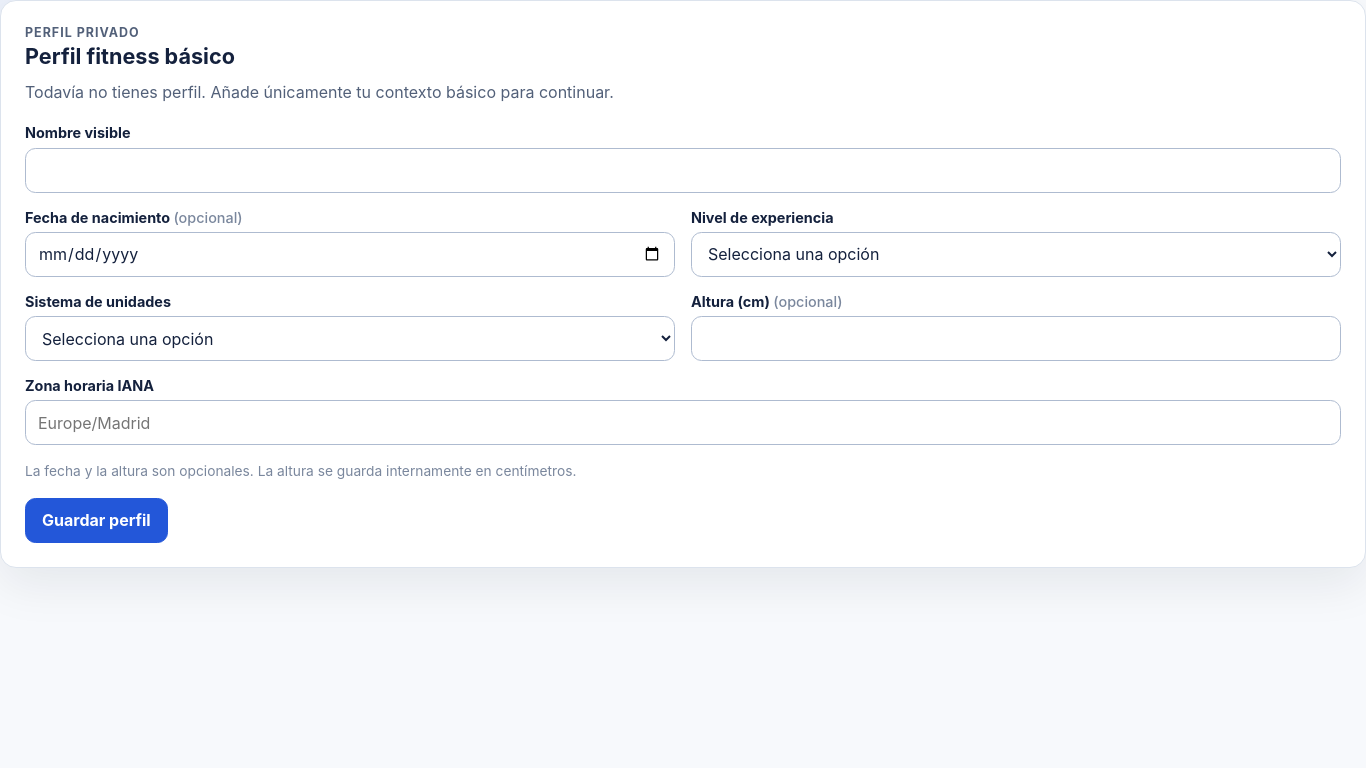
Test: ProfileSection › shows a controlled validation error returned by the backend
Type "Alex" into the field labelled "Nombre visible" at point(683, 170), box [25,148,1341,193]
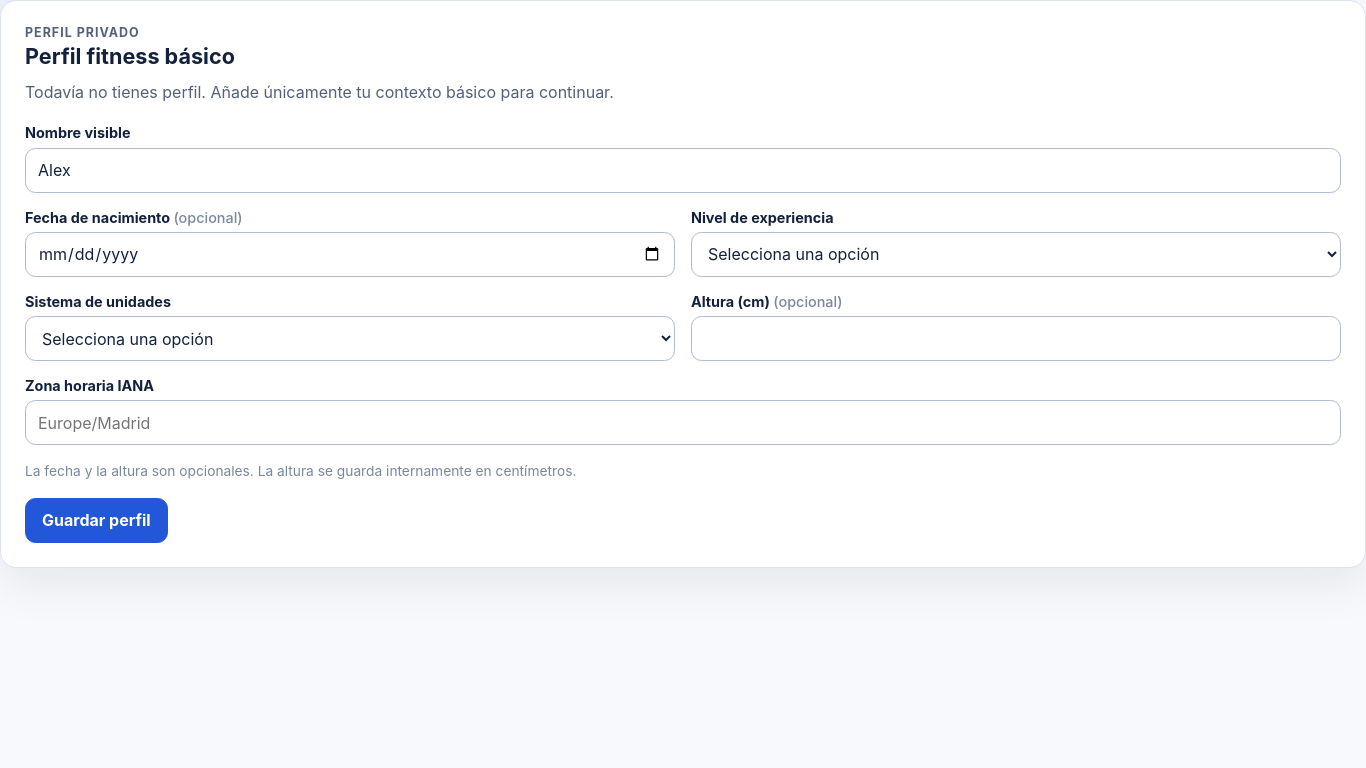
Select "Principiante" in the dropdown labelled "Nivel de experiencia" at point(1016, 254), box [691,232,1341,277]
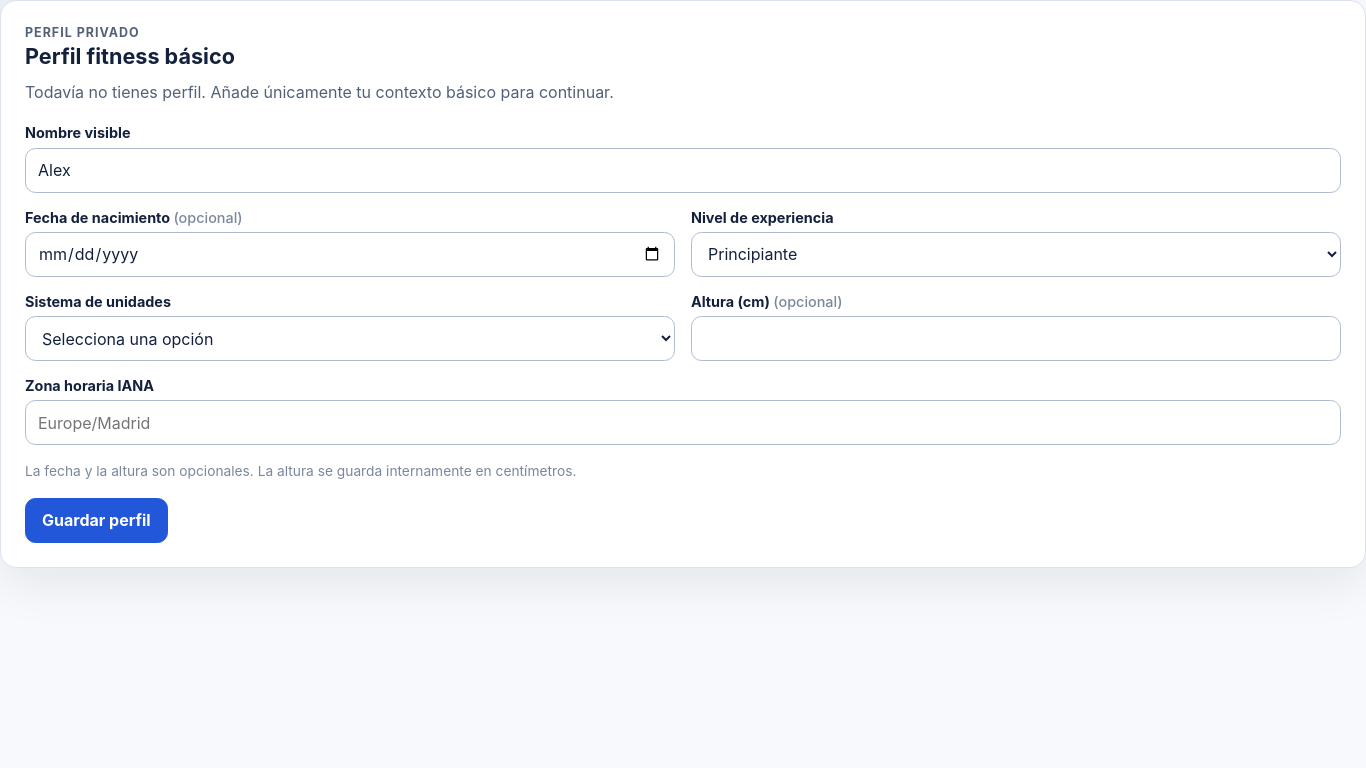
Select "Métrico" in the dropdown labelled "Sistema de unidades" at point(350, 338), box [25,316,675,361]
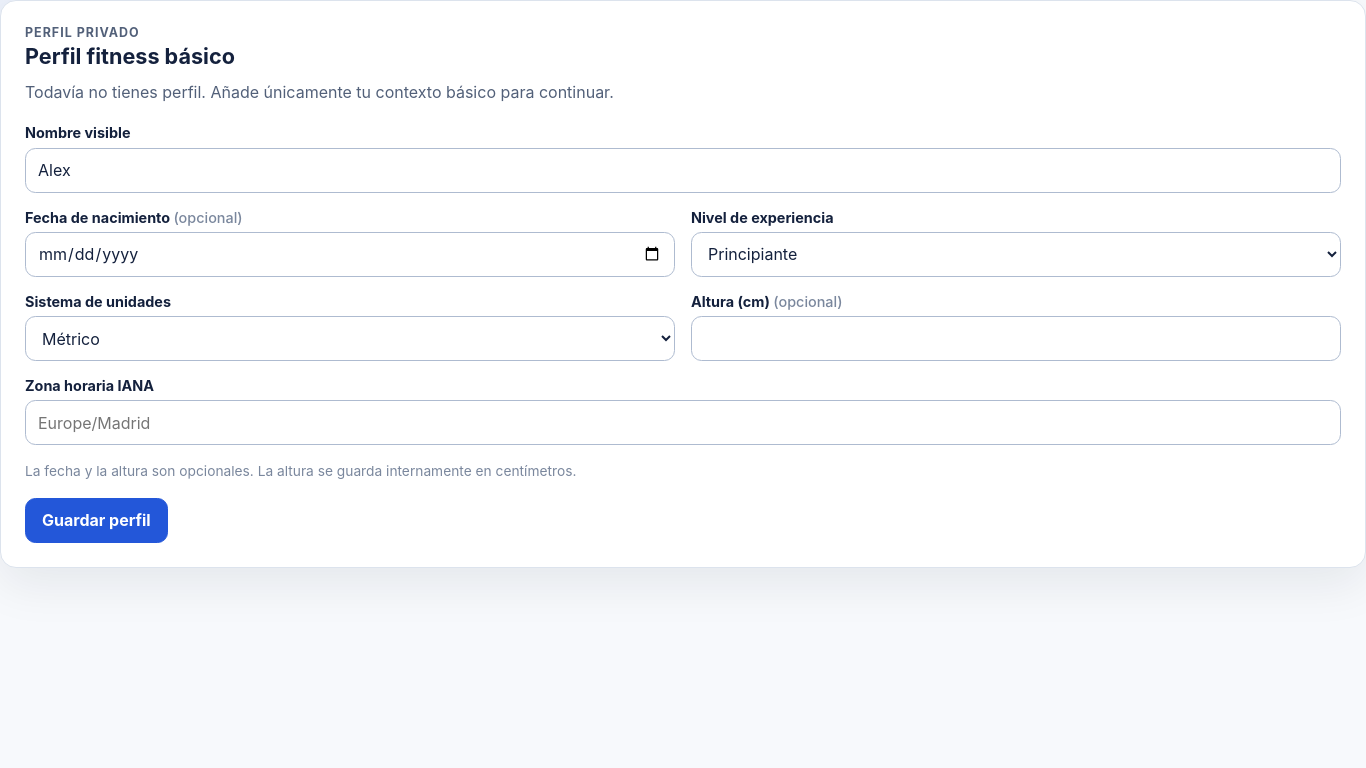
Type "Invalid/Timezone" into the field labelled "Zona horaria IANA" at point(683, 423), box [25,400,1341,445]
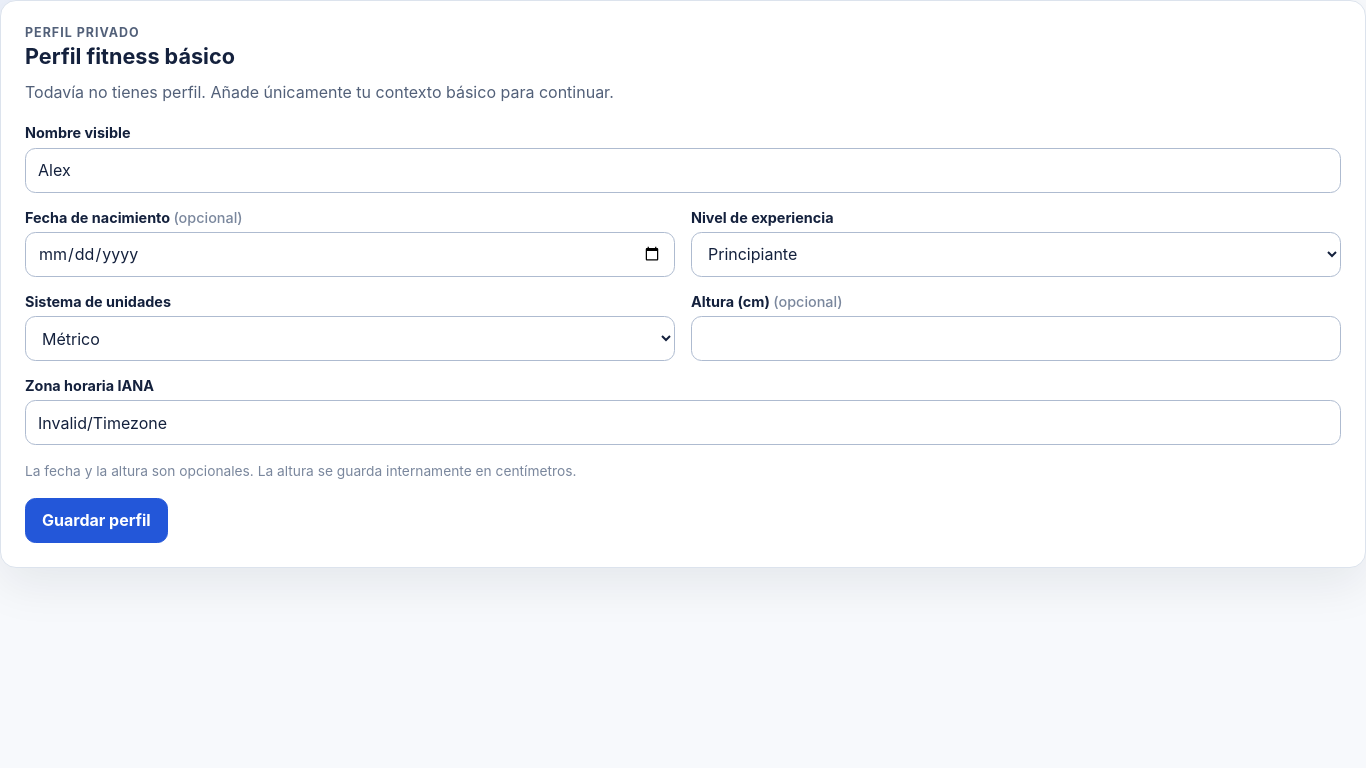
Click the button "Guardar perfil" at point(96, 520), box [25,498,168,543]
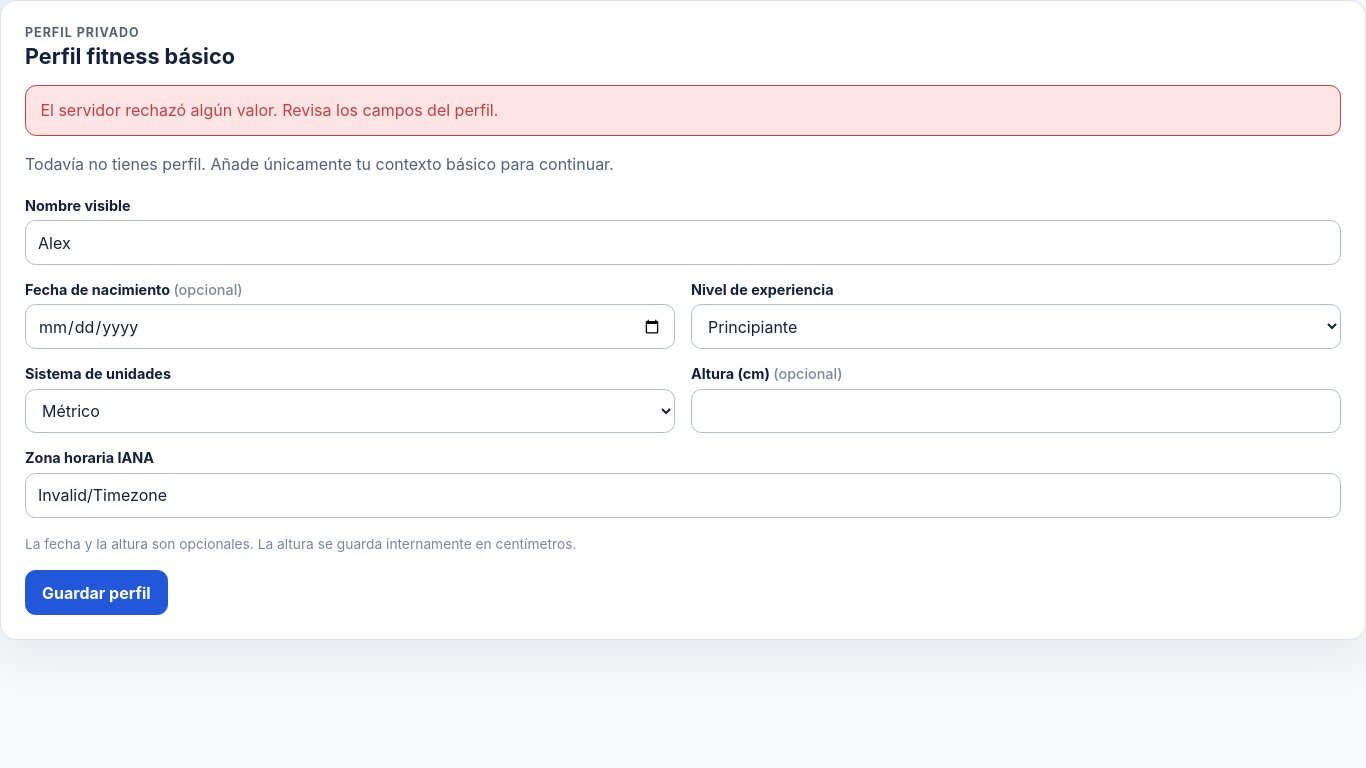
Check: the text "El servidor rechazó algún valor. Revisa los campos del perfil." is shown, box [25,85,1341,136]
